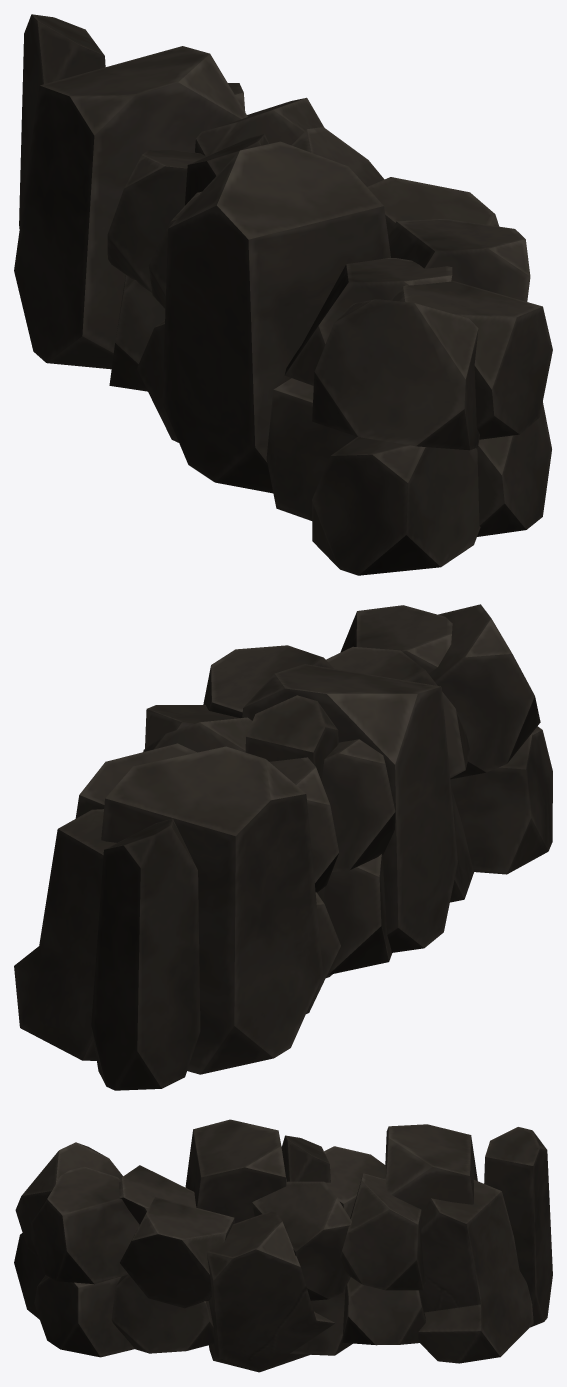
Rendered from Rock6.FBX.
3 views of the same model, one above another, from view 1: azimuth 30°, elevation 25°; view 2: azimuth 150°, elevation 25°; view 3: azimuth 270°, elevation 25° (orthographic). The views are drawn at different scales.
Parts seen in each view (by area): view 1: Stone025; view 2: Stone025; view 3: Stone025.
Boxes of the visible parts, left/top/right/bottom form: Stone025: left=14, top=14, right=552, bottom=575; Stone025: left=14, top=604, right=552, bottom=1090; Stone025: left=14, top=1119, right=552, bottom=1372.
Size of the model in its own units: 7.59 by 7.24 by 18.16.
